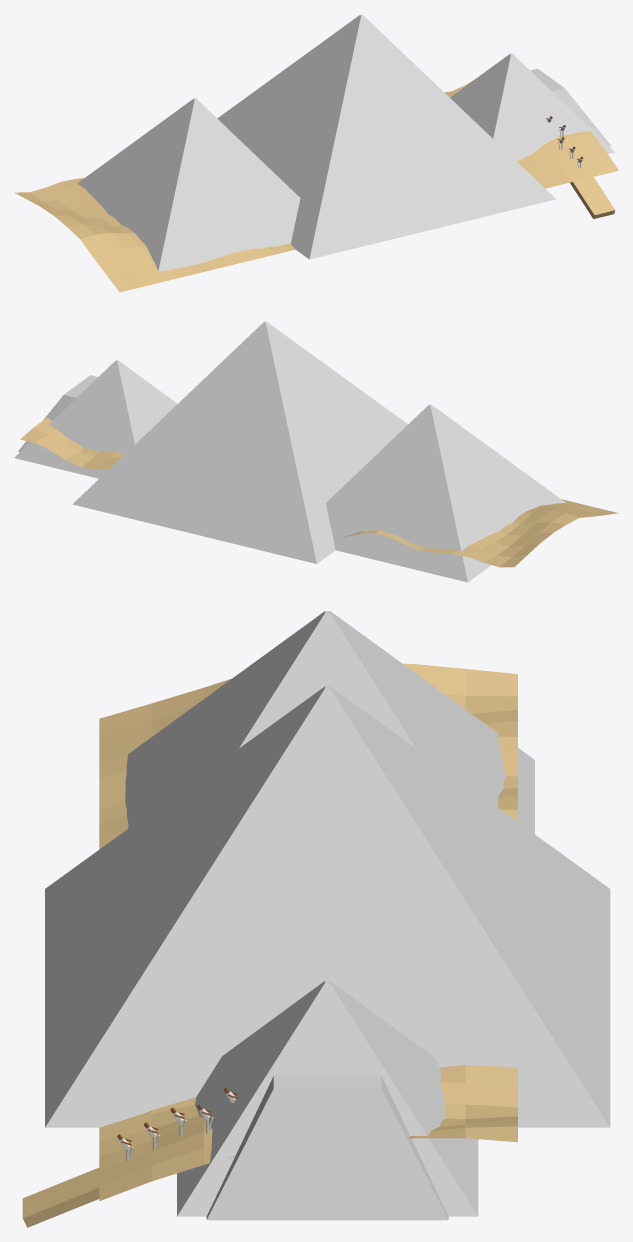
Rendered from egipto_bg_far.fbx.
3 views of the same model, one above another, from view 1: azimuth 30°, elevation 25°; view 2: azimuth 150°, elevation 25°; view 3: azimuth 270°, elevation 25° (orthographic). The views are drawn at different scales.
Visible parts, largest first — view 1: egipto_bg_far; view 2: egipto_bg_far; view 3: egipto_bg_far.
Part boxes in pixels (x1,y1,x2,y2): egipto_bg_far: (14,14,618,292); egipto_bg_far: (14,321,618,582); egipto_bg_far: (22,611,610,1227).
Size of the model in its own units: 62.36 by 21.42 by 30.87.
